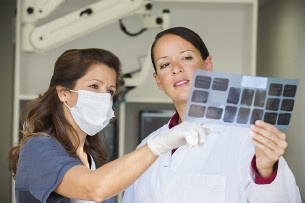Mask: (61, 73, 123, 135)
